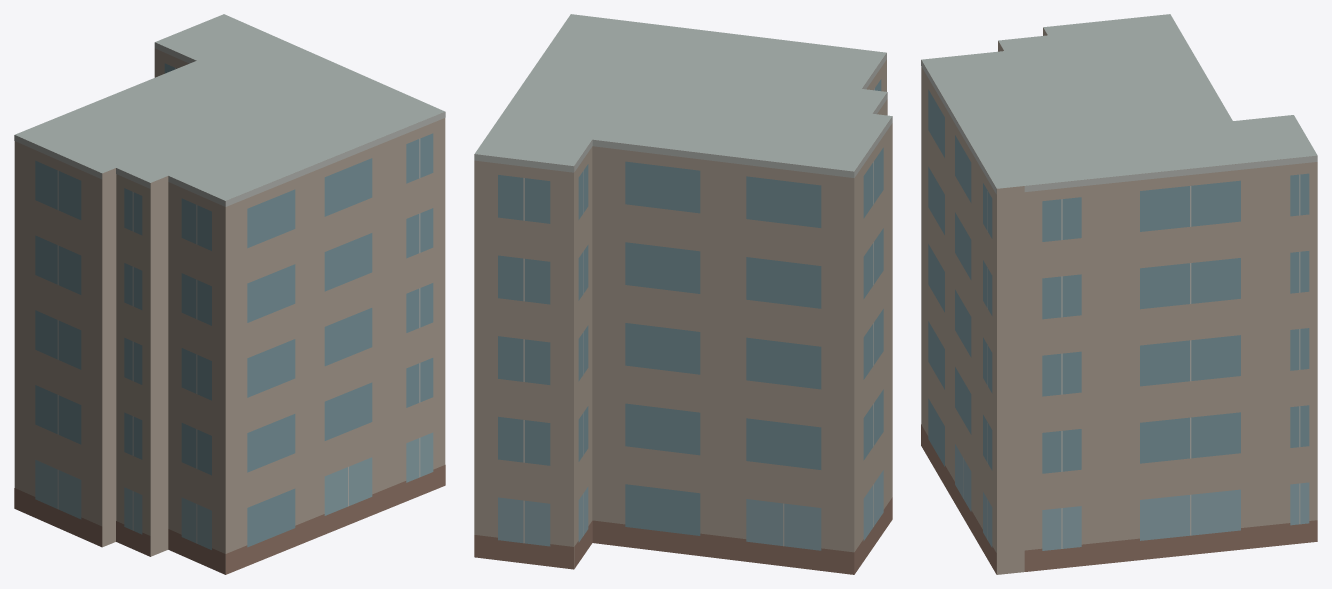
The model's file is survey-upis-32606675.glb.
The picture shows the model from 3 angles, left to right: view 1: azimuth 30°, elevation 25°; view 2: azimuth 150°, elevation 25°; view 3: azimuth 270°, elevation 25°; orthographic projection. The views are drawn at different scales.
Parts seen in each view (by area): view 1: survey-upis-32606675.tmp; view 2: survey-upis-32606675.tmp; view 3: survey-upis-32606675.tmp.
Boxes of the visible parts, box(x1,y1,x2,y2) form: survey-upis-32606675.tmp: box(14, 14, 445, 574); survey-upis-32606675.tmp: box(474, 14, 892, 574); survey-upis-32606675.tmp: box(921, 14, 1317, 574).
Bounding box in the file's own units: 14.57 × 15 × 13.97.
